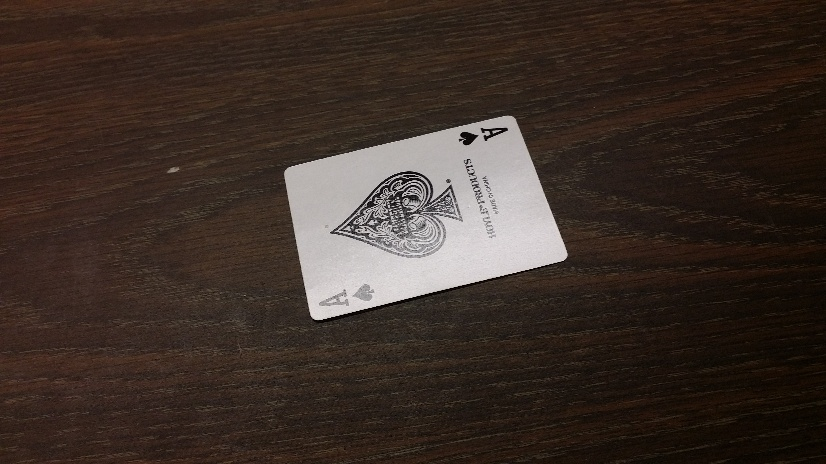Sa: (319, 277, 374, 312), (455, 125, 510, 150)
